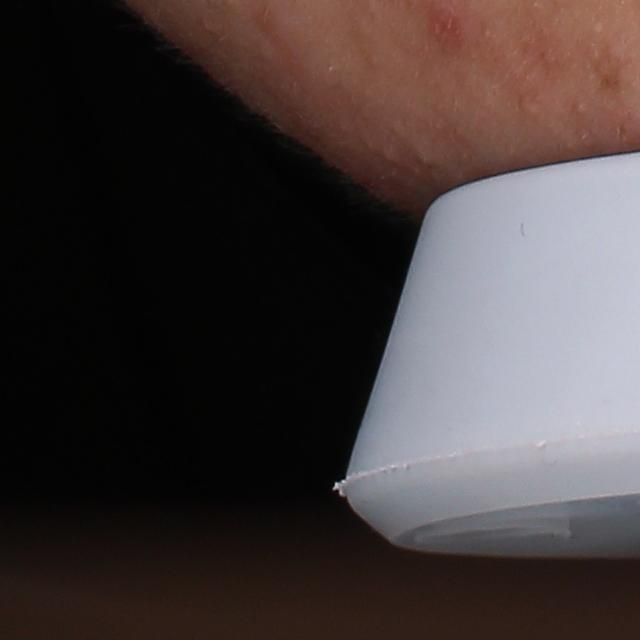papule: (432, 5, 464, 51)
